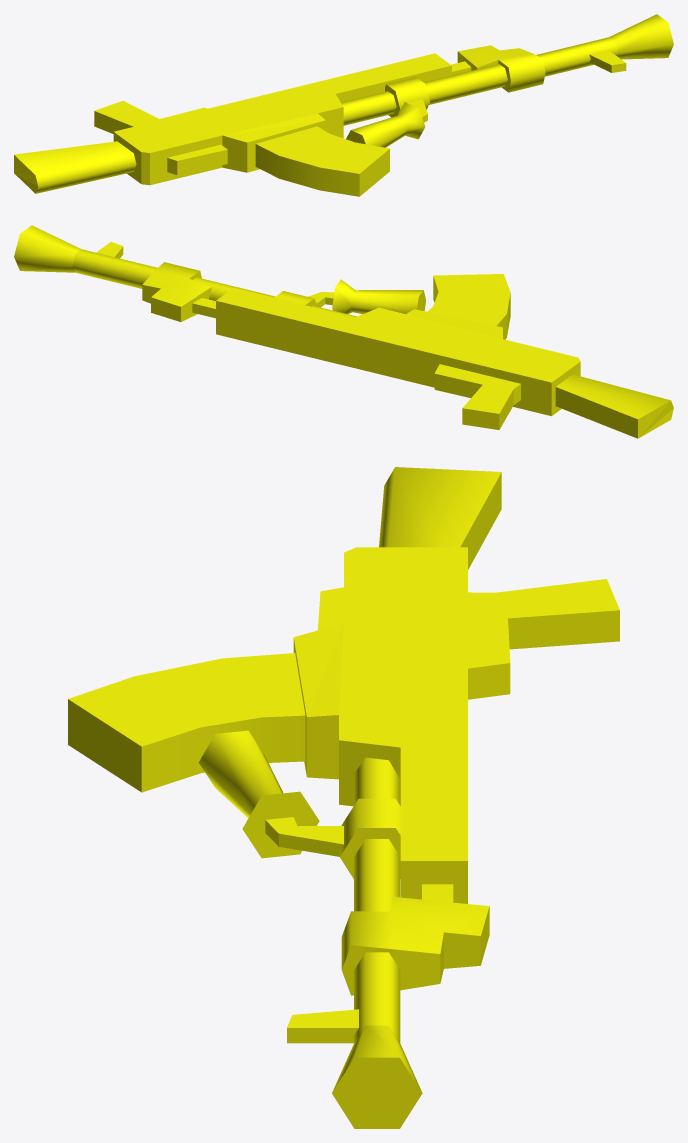
Rendered from weapon_bren.glb.
The picture shows the model from 3 angles, top to bottom: view 1: azimuth 30°, elevation 25°; view 2: azimuth 150°, elevation 25°; view 3: azimuth 270°, elevation 25°; orthographic projection. The views are drawn at different scales.
Visible parts, largest first — view 1: weapon_bren; view 2: weapon_bren; view 3: weapon_bren.
Part boxes in pixels (x1,y1,x2,y2): weapon_bren: [14, 14, 673, 196]; weapon_bren: [14, 225, 673, 438]; weapon_bren: [68, 467, 619, 1128].
Bounding box in the file's own units: 2.15 × 0.1175 × 0.8252.
1 material, 1 textured.
